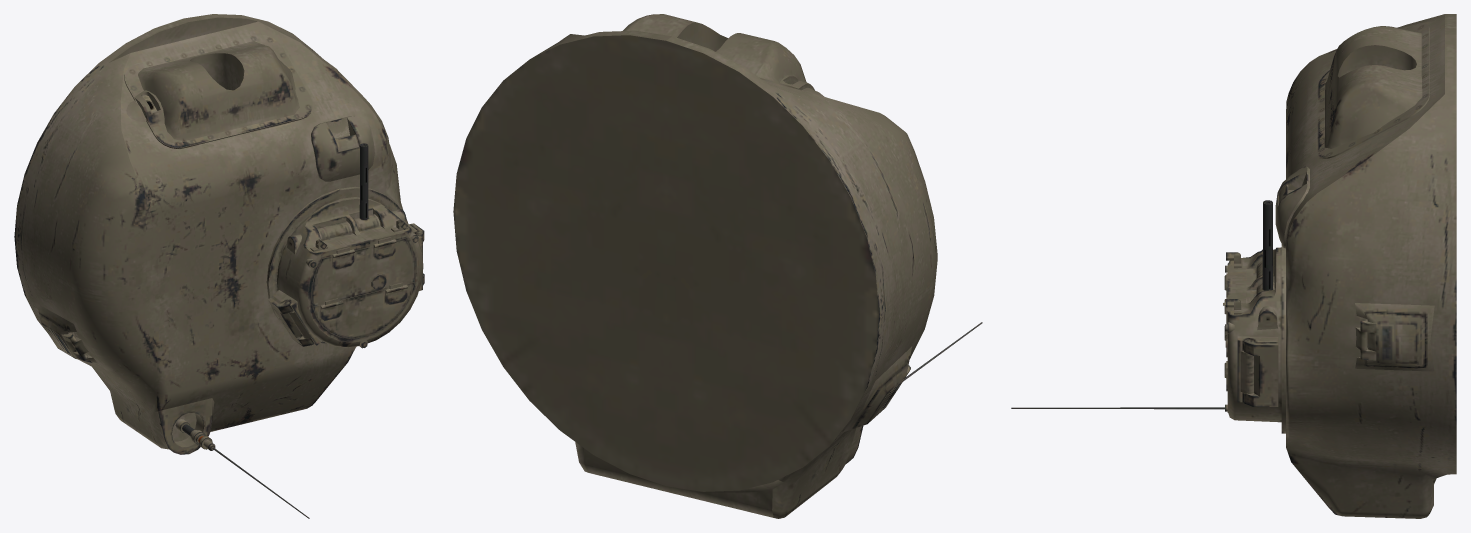
Rendered from Turret_01.glb.
3 views of the same model, side by side, from view 1: azimuth 30°, elevation 25°; view 2: azimuth 150°, elevation 25°; view 3: azimuth 270°, elevation 25° (orthographic). The views are drawn at different scales.
Visible parts, largest first — view 1: set_0_group_0; view 2: set_0_group_0; view 3: set_0_group_0.
Part boxes in pixels (x1=…): set_0_group_0: x1=14, y1=14, x2=424, y2=518; set_0_group_0: x1=453, y1=14, x2=982, y2=518; set_0_group_0: x1=1011, y1=14, x2=1456, y2=518.
Bounding box in the file's own units: 2.07 × 2.15 × 1.97.
1 material, 1 textured.
